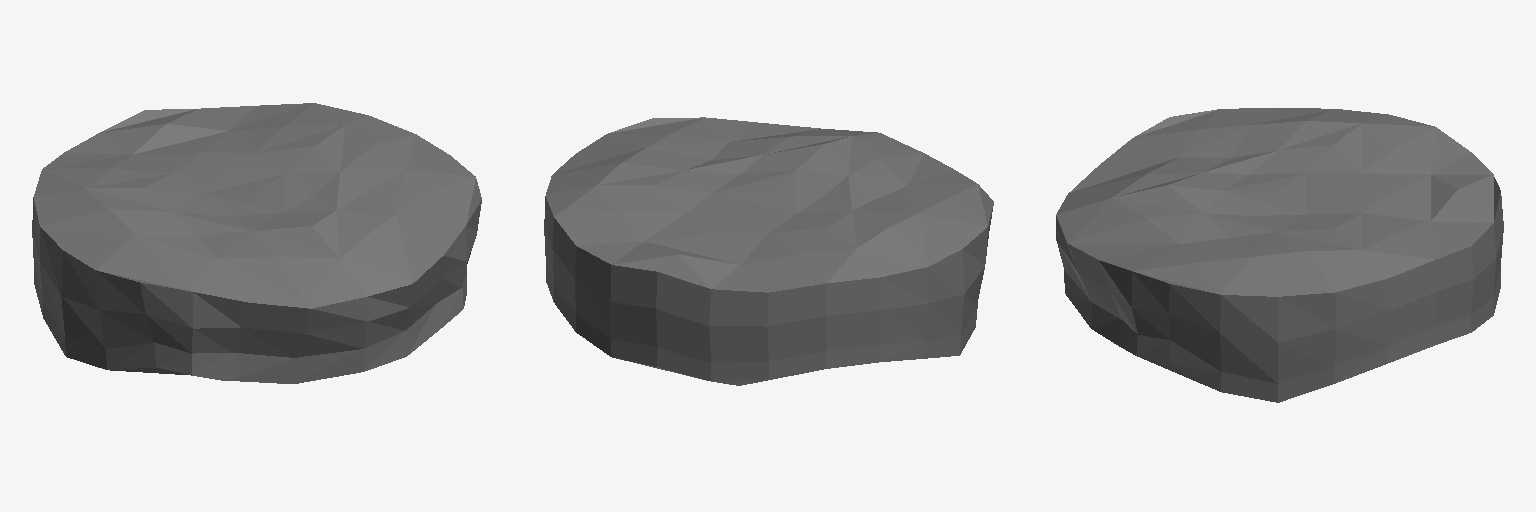
Rendered from FB_Pedestal_Prop.obj.
3 views of the same model, side by side, from view 1: azimuth 30°, elevation 25°; view 2: azimuth 150°, elevation 25°; view 3: azimuth 270°, elevation 25° (orthographic).
Parts seen in each view (by area): view 1: Pedestal; view 2: Pedestal; view 3: Pedestal.
Boxes of the visible parts, x1=… form: Pedestal: x1=32, y1=103, x2=481, y2=383; Pedestal: x1=544, y1=117, x2=993, y2=385; Pedestal: x1=1056, y1=108, x2=1503, y2=402.
Bounding box in the file's own units: 194 × 67.26 × 193.